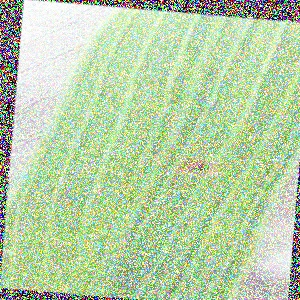Bacterial_Leaf_Blight: (170, 152, 219, 178), (12, 285, 28, 294), (51, 192, 62, 202)
